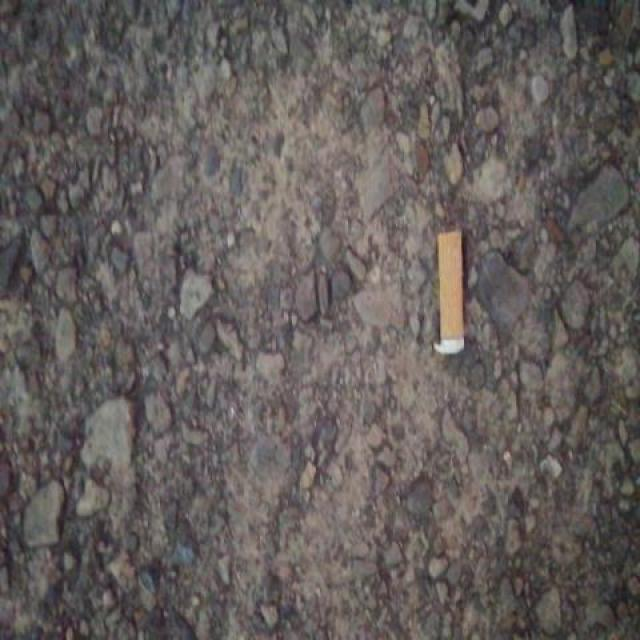non-organic waste: (431, 225, 469, 360)
